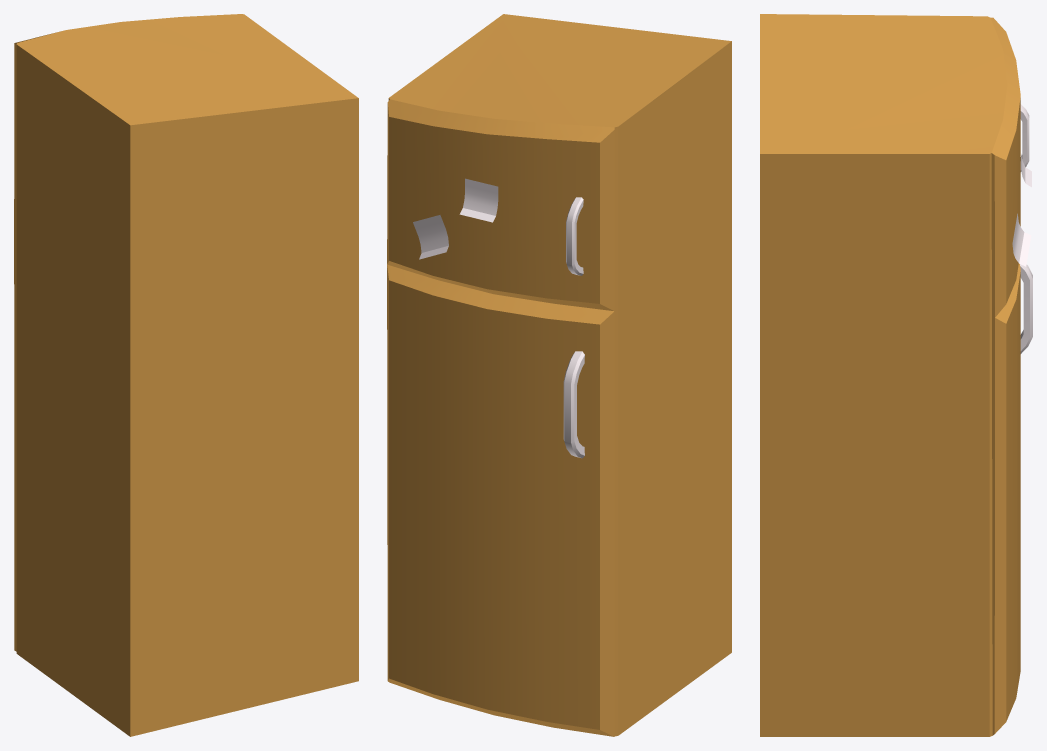
Rendered from GeladeiraSemSeloE_Nova.fbx.
The picture shows the model from 3 angles, left to right: view 1: azimuth 30°, elevation 25°; view 2: azimuth 150°, elevation 25°; view 3: azimuth 270°, elevation 25°; orthographic projection.
Visible parts, largest first — view 1: GeladeiraSemSelo_E; view 2: GeladeiraSemSelo_E; view 3: GeladeiraSemSelo_E.
Boxes of the visible parts, x1,y1,x2,y2 form: GeladeiraSemSelo_E: (14, 14, 358, 736); GeladeiraSemSelo_E: (387, 14, 731, 736); GeladeiraSemSelo_E: (760, 14, 1032, 736).
Size of the model in its own units: 253 by 648 by 262.
